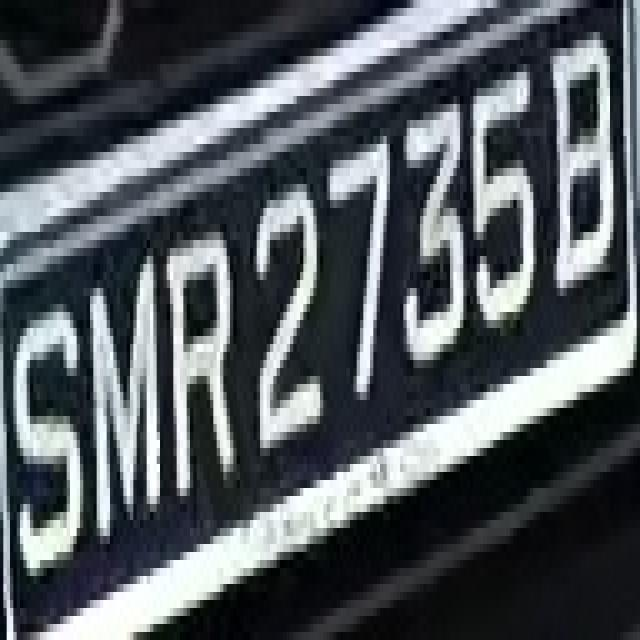2: (253, 152, 330, 456)
3: (390, 64, 470, 376)
5: (460, 48, 543, 352)
7: (313, 136, 397, 432)
B: (550, 16, 620, 336)
M: (90, 240, 163, 576)
R: (150, 208, 237, 528)
S: (3, 264, 90, 616)
